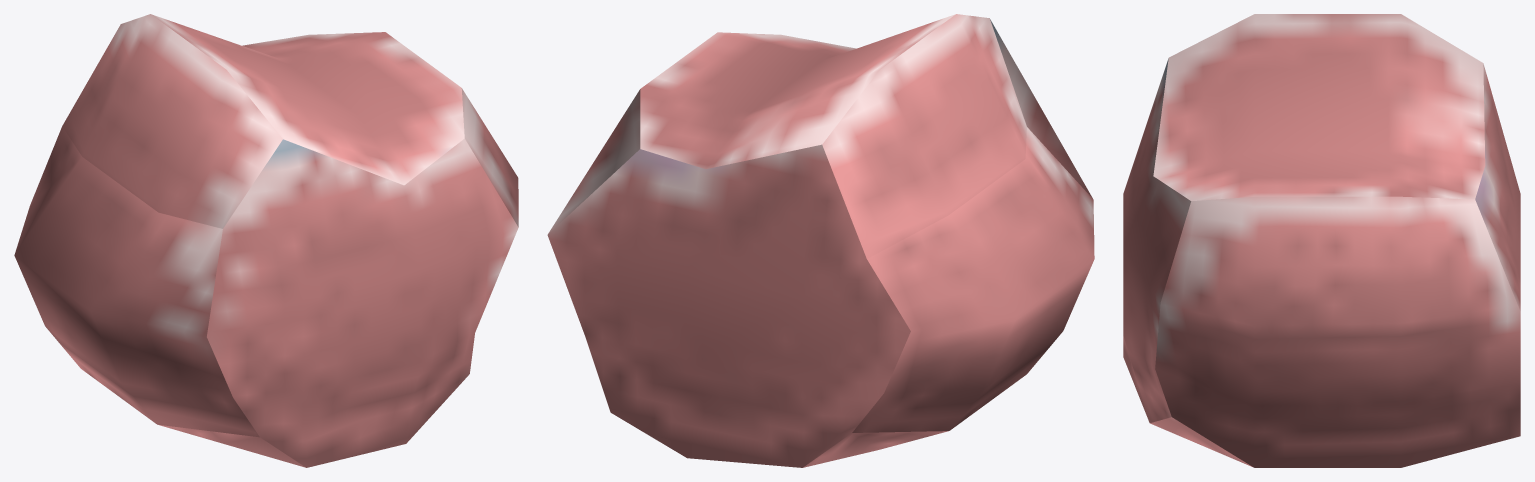
Rendered from split_poling3.fbx.
3 renders of one model, left to right at view 1: azimuth 30°, elevation 25°; view 2: azimuth 150°, elevation 25°; view 3: azimuth 270°, elevation 25°, orthographic. The views are drawn at different scales.
Parts seen in each view (by area): view 1: pCube10; view 2: pCube10; view 3: pCube10.
Boxes of the visible parts, x1,y1,x2,y2 form: pCube10: (14,14,518,467); pCube10: (547,14,1094,467); pCube10: (1123,14,1520,467).
Bounding box in the file's own units: 108 × 90.14 × 90.37.
